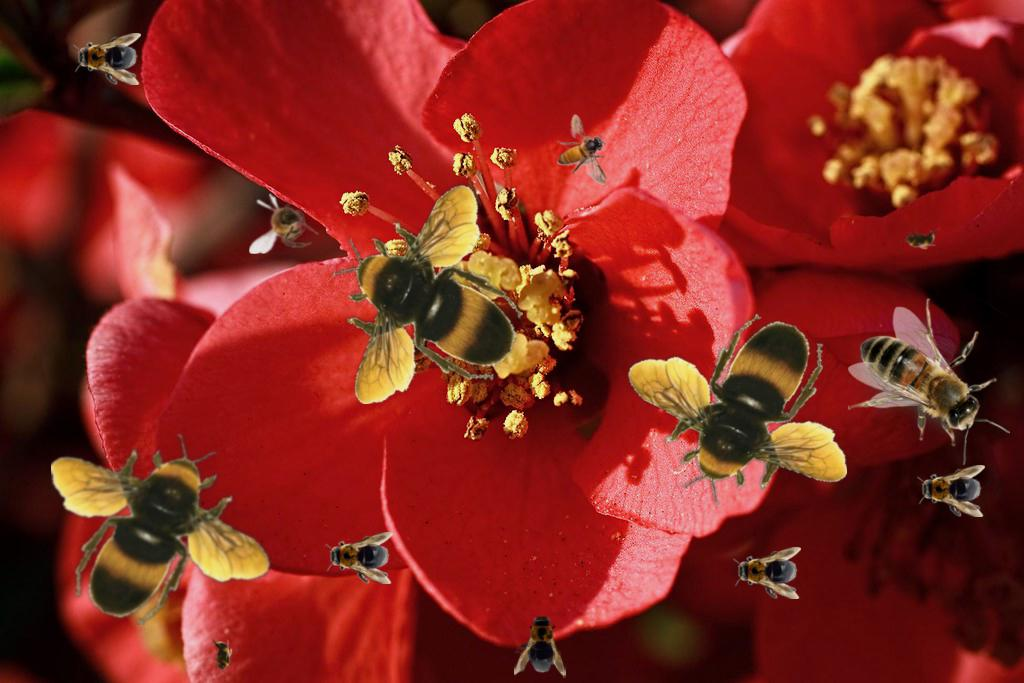Bee: (332, 184, 523, 404), (627, 314, 847, 505), (51, 434, 271, 625), (848, 298, 1010, 465), (249, 193, 319, 254), (557, 114, 607, 185), (514, 610, 566, 678), (325, 532, 393, 584), (73, 33, 141, 85), (733, 547, 801, 599), (917, 465, 985, 517), (211, 636, 233, 676), (900, 228, 940, 250)
